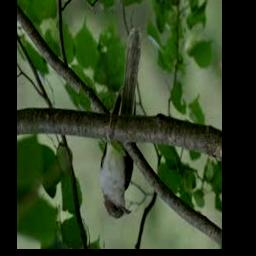Cuckoo: (100, 27, 140, 219)
